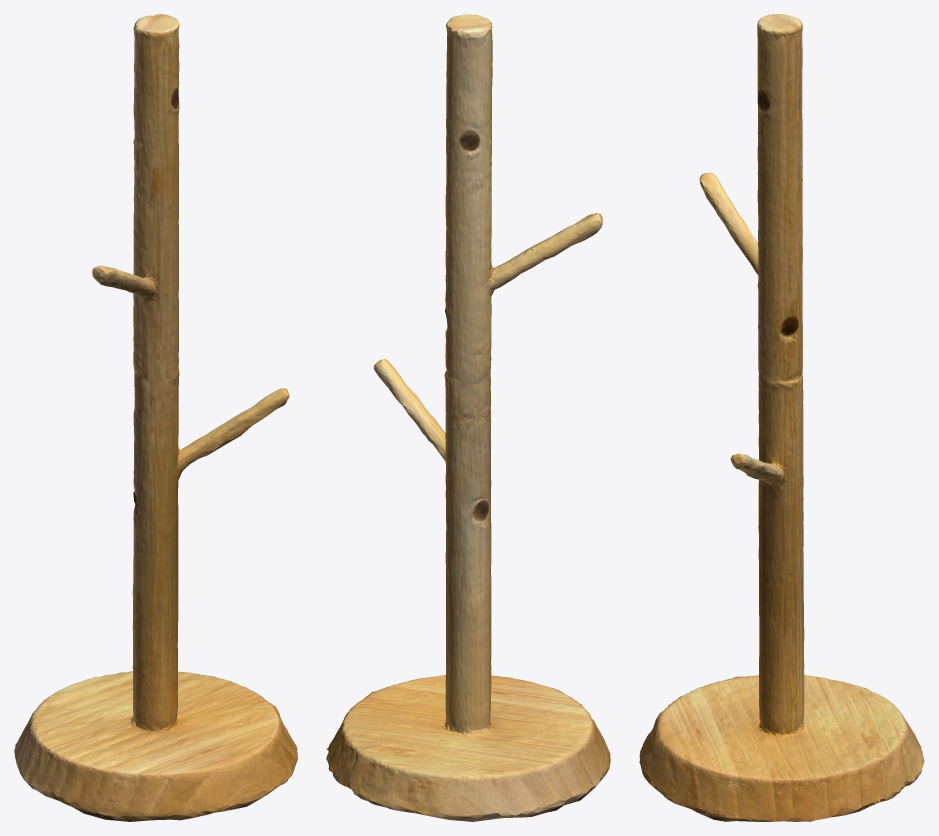
File: mugrack2.obj
3 views of the same model, side by side, from view 1: azimuth 30°, elevation 25°; view 2: azimuth 150°, elevation 25°; view 3: azimuth 270°, elevation 25° (orthographic).
Parts seen in each view (by area): view 1: Mesh; view 2: Mesh; view 3: Mesh.
Boxes of the visible parts, x1,y1,x2,y2 form: Mesh: [14, 14, 297, 821]; Mesh: [326, 14, 610, 821]; Mesh: [639, 14, 924, 821].
Bounding box in the file's own units: 0.1399 × 0.4064 × 0.1394.
1 material, 1 textured.
